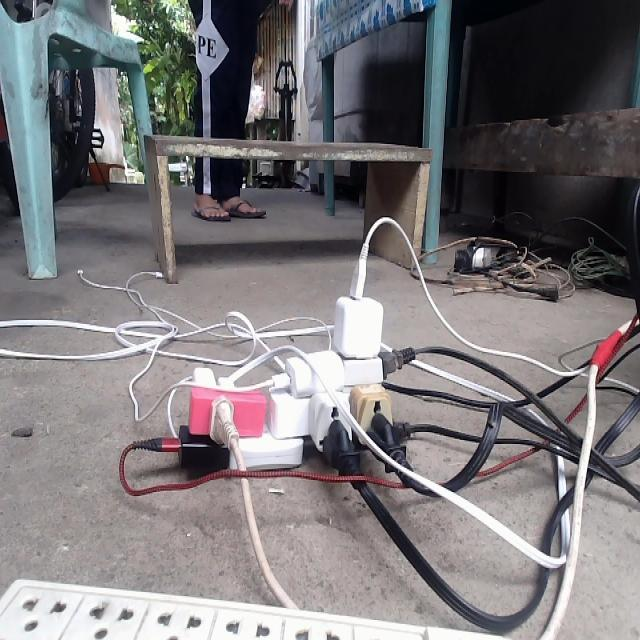-: (177, 289, 412, 476)
